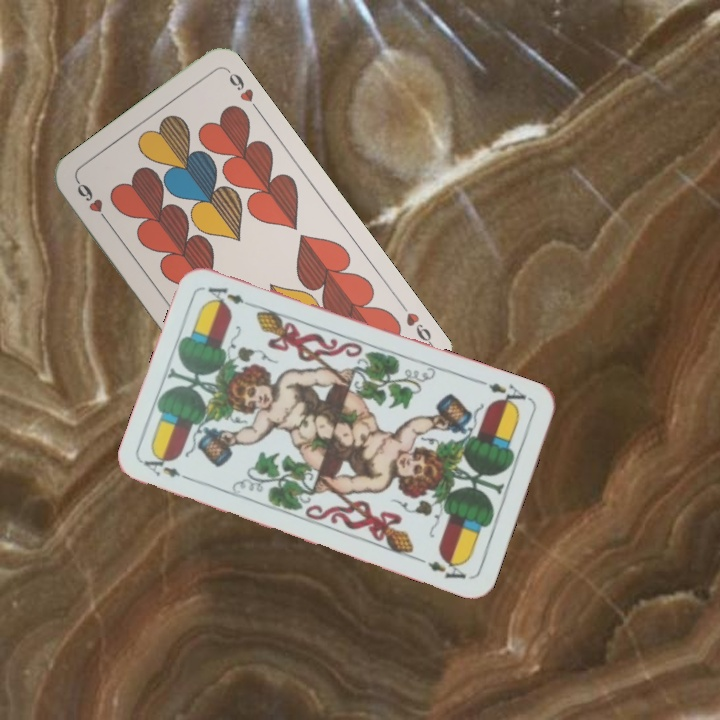EA: (476, 376, 533, 411), (139, 450, 197, 484)
H9: (72, 177, 113, 228), (402, 308, 436, 350)
